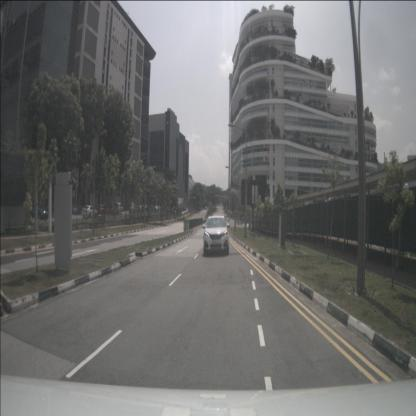vehicle-car: (204, 215, 230, 256), (32, 205, 48, 221), (82, 205, 98, 218), (98, 204, 108, 216), (108, 205, 119, 215), (115, 202, 124, 212), (129, 205, 138, 214), (137, 205, 145, 213), (146, 205, 154, 213), (154, 204, 160, 212)
